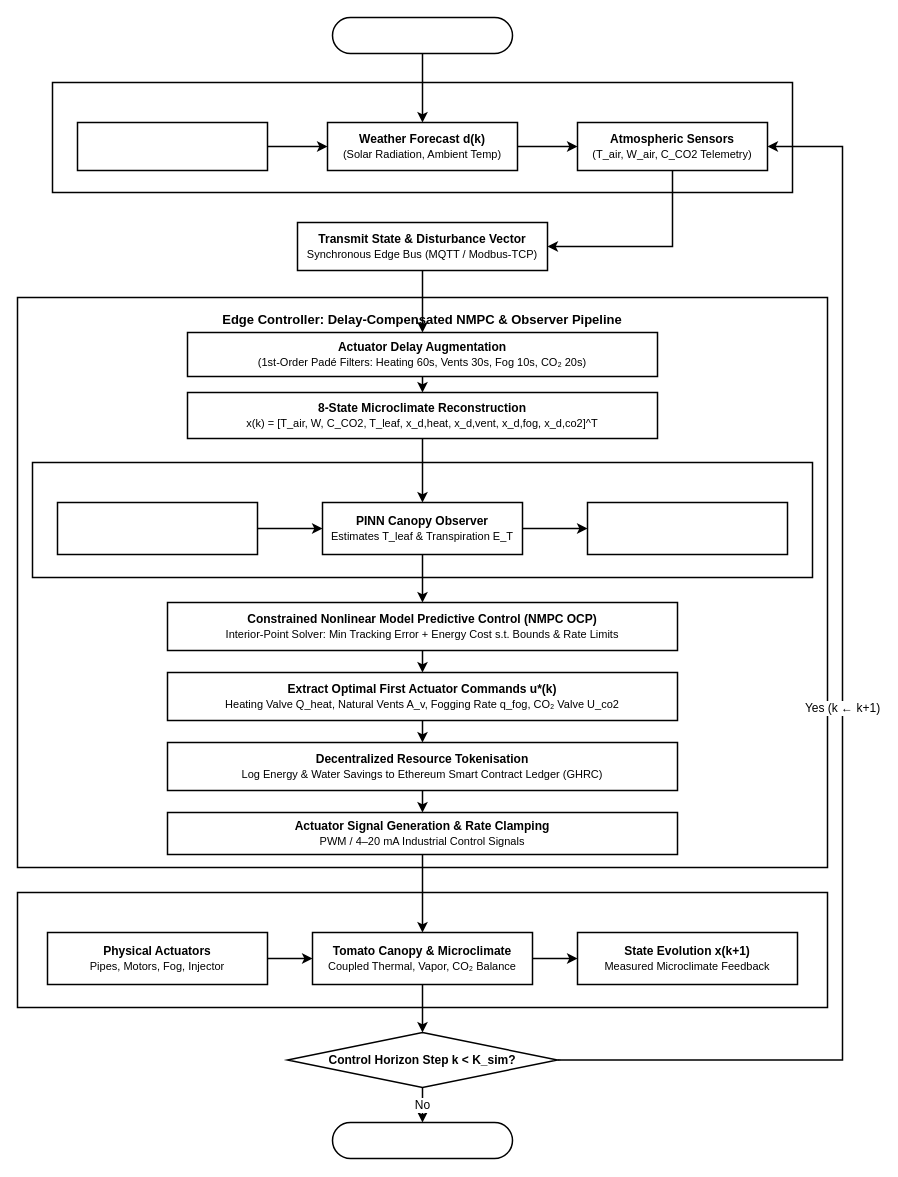
Image size: 898x1177. Some labels were removed from this diagram. The box of each missing label's shape, as (x1, y1, x2, y2) in pixels:
Agronomic Setpoints (Diurnal Temp, RH, CO₂, VPD): (76, 121, 268, 171)
DARE Stability Engine Terminal Penalty Matrix P (ρ<1.0): (586, 501, 788, 555)
End (Simulation Complete): (331, 1121, 513, 1159)
Heterogeneous Virtual Sensing & Stability Engines: (31, 461, 813, 578)
Penman-Monteith Thermodynamics Loss: (56, 501, 258, 555)
Physical Glasshouse Environment & Plant Response: (16, 891, 828, 1008)
Start: (331, 16, 513, 54)
Supervisory & Sensor Acquisition Layer (Sampling Ts = 60 s): (51, 81, 793, 193)
